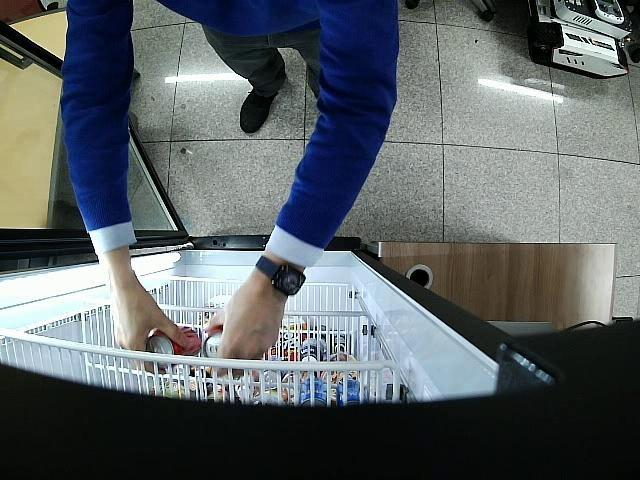11_cocaColaZero: (146, 327, 202, 368), (205, 326, 222, 358)
